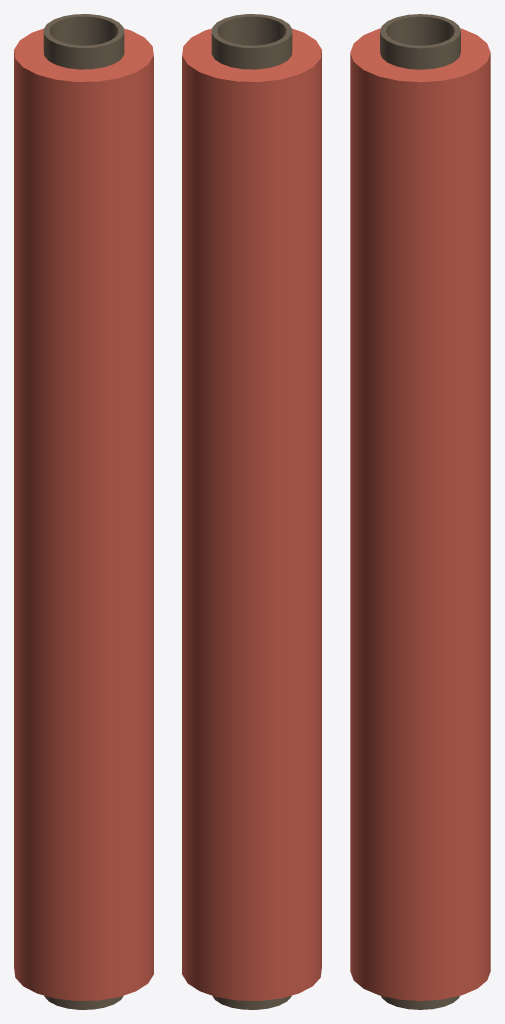
Rendered from RolRood2.fbx.
The picture shows the model from 3 angles, left to right: view 1: azimuth 30°, elevation 25°; view 2: azimuth 150°, elevation 25°; view 3: azimuth 270°, elevation 25°; orthographic projection.
Parts seen in each view (by area): view 1: textielrol1; view 2: textielrol1; view 3: textielrol1.
Part boxes in pixels (box(x1,y1,x2,y2)): textielrol1: box(14, 14, 153, 1009); textielrol1: box(182, 14, 321, 1009); textielrol1: box(350, 14, 490, 1009).
Bounding box in the file's own units: 0.2449 × 1.85 × 0.2449.
